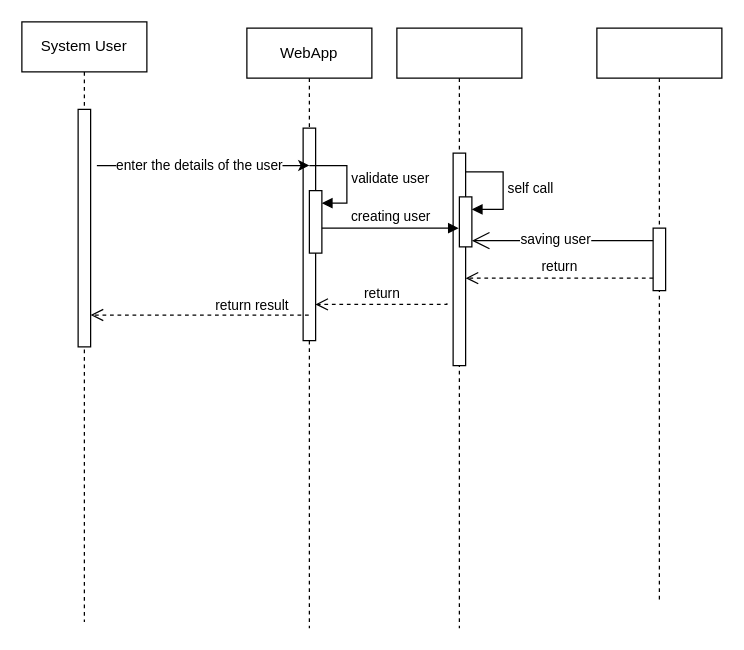
The diagram is 744 pixels wide and 650 high, and some of its shapes have lost their labels. The centre of each missing label's shape, as x and y in pixels:
"Database" belongs at [659,315].
"Usermanagement" belongs at [459,327].
